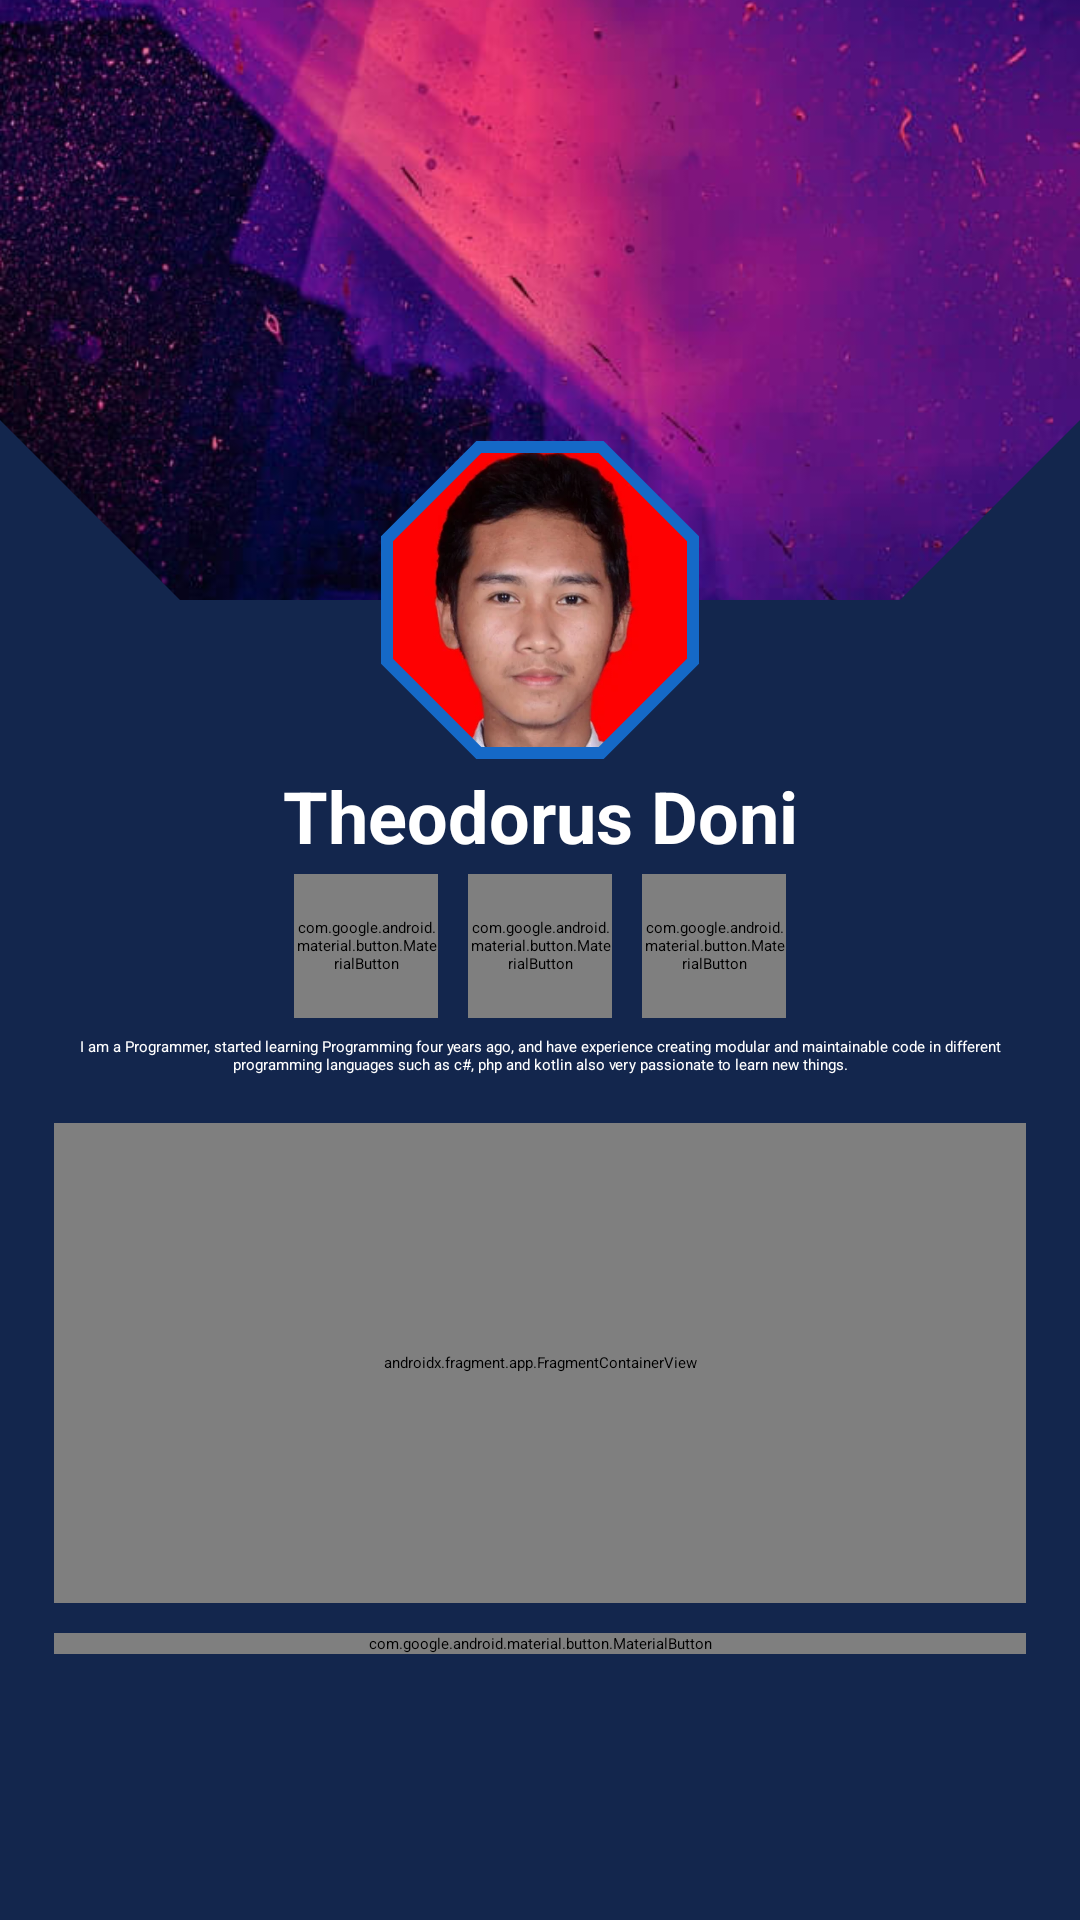

Screen size 1080x1920. Icon name, then its center in pixels as (x,y):
profile: (540,600)
